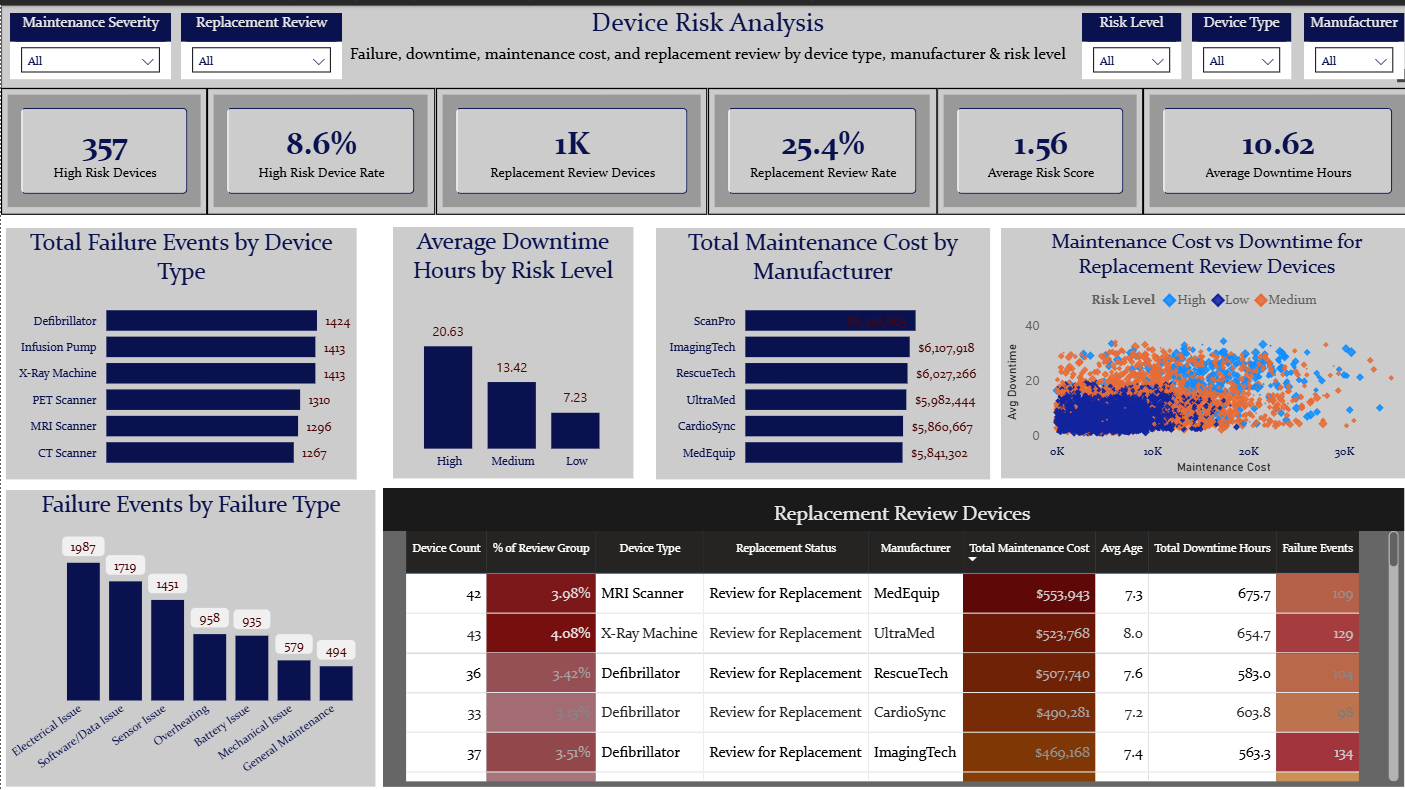

Layout of this report page (visuals, bound fields, positions):
{"tool":"powerbi","page":{"name":"Device Risk Analysis","canvas":[1280,720],"ordinal":1},"visuals":[{"type":"textbox","title":"Device Risk Analysis","box":[0,0,1280,75.7],"z":0},{"type":"cardVisual","fields":{"Data":["Measures Table.High Risk Devices"]},"box":[0,75.7,187.1,114.5],"z":1000},{"type":"cardVisual","fields":{"Data":["Measures Table.Devices for Replacement Review"]},"box":[394.6,75.7,246.4,114.5],"z":2000},{"type":"cardVisual","fields":{"Data":["Measures Table.Average Risk Score"]},"box":[848.6,75.7,187.1,114.5],"z":3000},{"type":"cardVisual","fields":{"Data":["Measures Table.High Risk Device Rate"]},"box":[187.1,75.7,206.5,114.5],"z":4000},{"type":"cardVisual","fields":{"Data":["Measures Table.Replacement Review Rate"]},"box":[641,75.7,207.5,114.5],"z":5000},{"type":"cardVisual","fields":{"Data":["Measures Table.Average Downtime Hours"]},"box":[1035.7,75.7,244.3,114.5],"z":6000},{"type":"clusteredBarChart","title":"Total Failure Events by Device Type","fields":{"Y":["Measures Table.Total Failure Events"],"Category":["medical_device_failure_cleaned.device_type"]},"box":[4.1,202.4,318,228],"z":7000},{"type":"columnChart","title":"Average Downtime Hours by Risk Level","fields":{"Category":["medical_device_failure_cleaned.operational_risk_level"],"Y":["Measures Table.Average Downtime Hours"]},"box":[355.8,201.4,217.8,228],"z":8000},{"type":"clusteredBarChart","title":"Total Maintenance Cost by Manufacturer","fields":{"Category":["medical_device_failure_cleaned.manufacturer"],"Y":["Measures Table.Total Maintenance Cost"]},"box":[594,202.4,302.6,228],"z":9000},{"type":"scatterChart","title":"Maintenance Cost vs Downtime for Replacement Review Devices","fields":{"X":["Sum(medical_device_failure_cleaned.maintenance_cost)"],"Y":["Avg(medical_device_failure_cleaned.downtime_hours)"],"Size":["Sum(medical_device_failure_cleaned.failure_event_count)"],"Series":["medical_device_failure_cleaned.operational_risk_level"],"Category":["medical_device_failure_cleaned.device_id"]},"box":[906.8,202.4,373.2,227],"z":10000},{"type":"lineClusteredColumnComboChart","title":"Failure Events by Failure Type","fields":{"Category":["medical_device_failure_cleaned.failure_type"],"Y":["Sum(medical_device_failure_cleaned.failure_event_count)"]},"box":[4.1,439.6,335.3,268.9],"z":11000},{"type":"tableEx","title":"Replacement Review Devices","fields":{"Values":["Measures Table.Devices for Replacement Review","Divide(Measures Table.Devices for Replacement Review, ScopedEval(Measures Table.Devices for Replacement Review, []))","medical_device_failure_cleaned.device_type","medical_device_failure_cleaned.replacement_review_flag","medical_device_failure_cleaned.manufacturer","Measures Table.Total Maintenance Cost","Avg(medical_device_failure_cleaned.age)","Sum(medical_device_failure_cleaned.downtime_hours)","Sum(medical_device_failure_cleaned.failure_event_count)"]},"box":[346.6,437.6,926.3,270.9],"z":12000},{"type":"slicer","title":"Replacement Review","fields":{"Values":["medical_device_failure_cleaned.replacement_review_flag"]},"box":[163.6,7.2,146.2,60.3],"z":13000},{"type":"slicer","title":"Device Type","fields":{"Values":["medical_device_failure_cleaned.device_type"]},"box":[1079.6,7.2,90,60.3],"z":14000},{"type":"slicer","title":"Manufacturer","fields":{"Values":["medical_device_failure_cleaned.manufacturer"]},"box":[1181.9,7.2,91,60.3],"z":15000},{"type":"slicer","title":"Maintenance Severity","fields":{"Values":["medical_device_failure_cleaned.maintenance_severity"]},"box":[8.2,7.2,146.2,60.3],"z":16000},{"type":"slicer","title":"Risk Level","fields":{"Values":["medical_device_failure_cleaned.operational_risk_level"]},"box":[980.4,7.2,90,60.3],"z":17000}]}

Visuals, with their boxes in screenshot pixels (x1, y1, x2, y2), scaled from the page's 1280x720 canvas onto the 1405x790 screenshot:
"Device Risk Analysis" textbox: bbox=[0, 0, 1404, 83]
cardVisual - Measures Table.High Risk Devices: bbox=[0, 83, 205, 209]
cardVisual - Measures Table.Devices for Replacement Review: bbox=[433, 83, 704, 209]
cardVisual - Measures Table.Average Risk Score: bbox=[931, 83, 1137, 209]
cardVisual - Measures Table.High Risk Device Rate: bbox=[205, 83, 432, 209]
cardVisual - Measures Table.Replacement Review Rate: bbox=[704, 83, 931, 209]
cardVisual - Measures Table.Average Downtime Hours: bbox=[1137, 83, 1404, 209]
"Total Failure Events by Device Type" clusteredBarChart: bbox=[5, 222, 354, 472]
"Average Downtime Hours by Risk Level" columnChart: bbox=[391, 221, 630, 471]
"Total Maintenance Cost by Manufacturer" clusteredBarChart: bbox=[652, 222, 984, 472]
"Maintenance Cost vs Downtime for Replacement Review Devices" scatterChart: bbox=[995, 222, 1404, 471]
"Failure Events by Failure Type" lineClusteredColumnComboChart: bbox=[5, 482, 373, 777]
"Replacement Review Devices" tableEx: bbox=[380, 480, 1397, 777]
"Replacement Review" slicer: bbox=[180, 8, 340, 74]
"Device Type" slicer: bbox=[1185, 8, 1284, 74]
"Manufacturer" slicer: bbox=[1297, 8, 1397, 74]
"Maintenance Severity" slicer: bbox=[9, 8, 169, 74]
"Risk Level" slicer: bbox=[1076, 8, 1175, 74]
